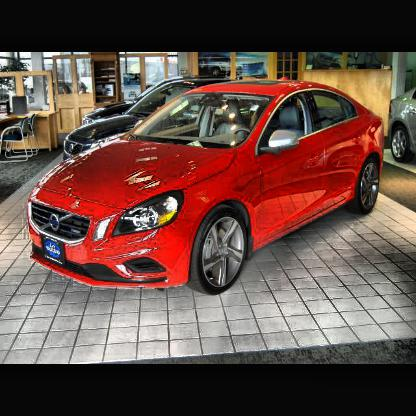Volvo C30 Hatchback 2012: (29, 82, 386, 299)
